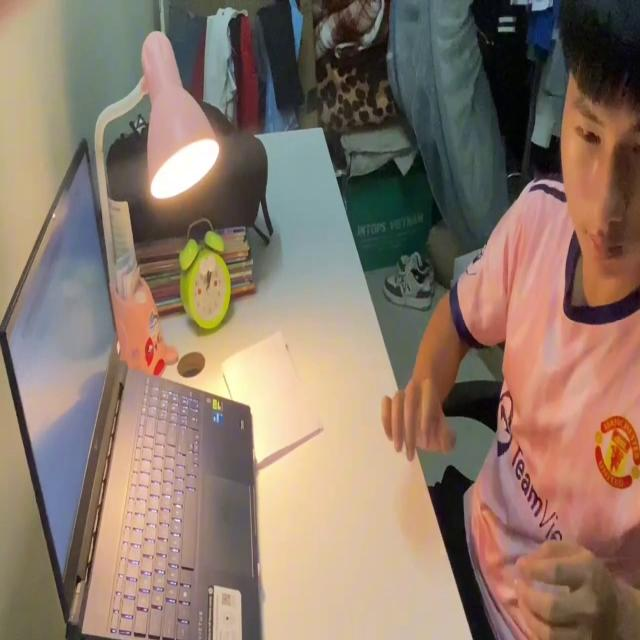book: (219, 332, 323, 466)
laptop: (0, 134, 260, 640)
student: (384, 0, 640, 640)
